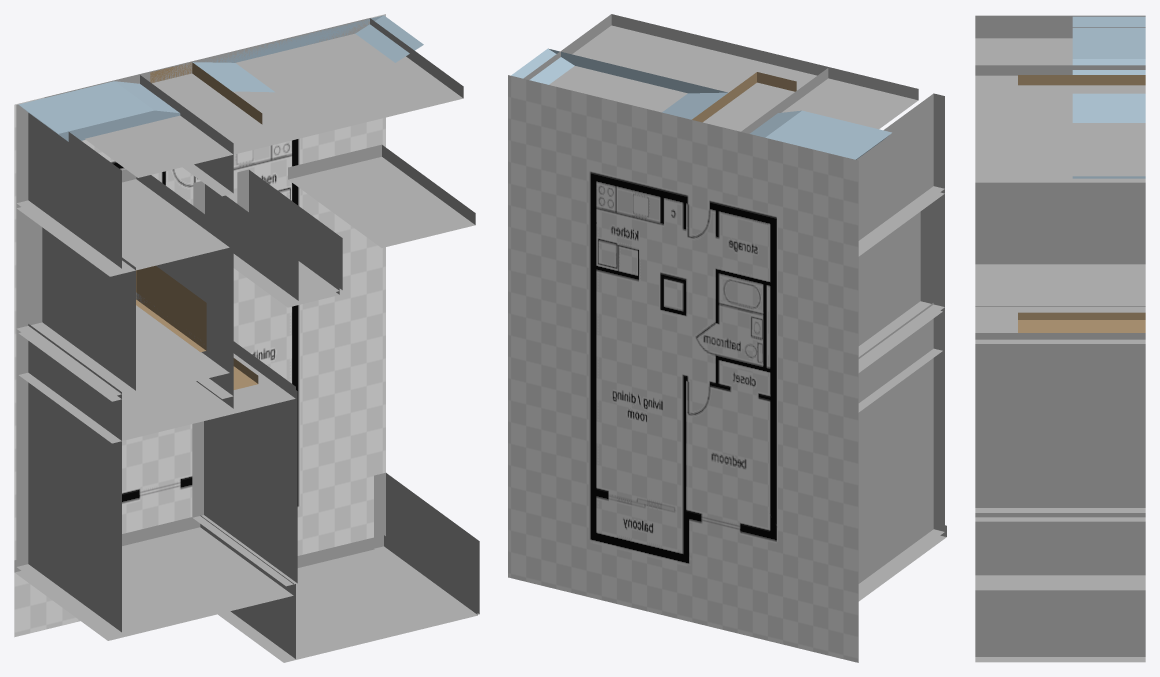
Rendered from floorplan1.gltf.
3 views of the same model, side by side, from view 1: azimuth 30°, elevation 25°; view 2: azimuth 150°, elevation 25°; view 3: azimuth 270°, elevation 25° (orthographic). The views are drawn at different scales.
Visible parts, largest first — view 1: floorplan1, FloorPlan; view 2: FloorPlan, floorplan1; view 3: floorplan1.
Part boxes in pixels (bbox=[...]): floorplan1: bbox=[14, 15, 479, 662]; FloorPlan: bbox=[14, 14, 385, 637]; FloorPlan: bbox=[508, 75, 858, 662]; floorplan1: bbox=[511, 14, 946, 601]; floorplan1: bbox=[975, 15, 1145, 662].
Size of the model in its own units: 6.41 by 8.79 by 2.8.
Materials: 2 (1 with a texture image).
